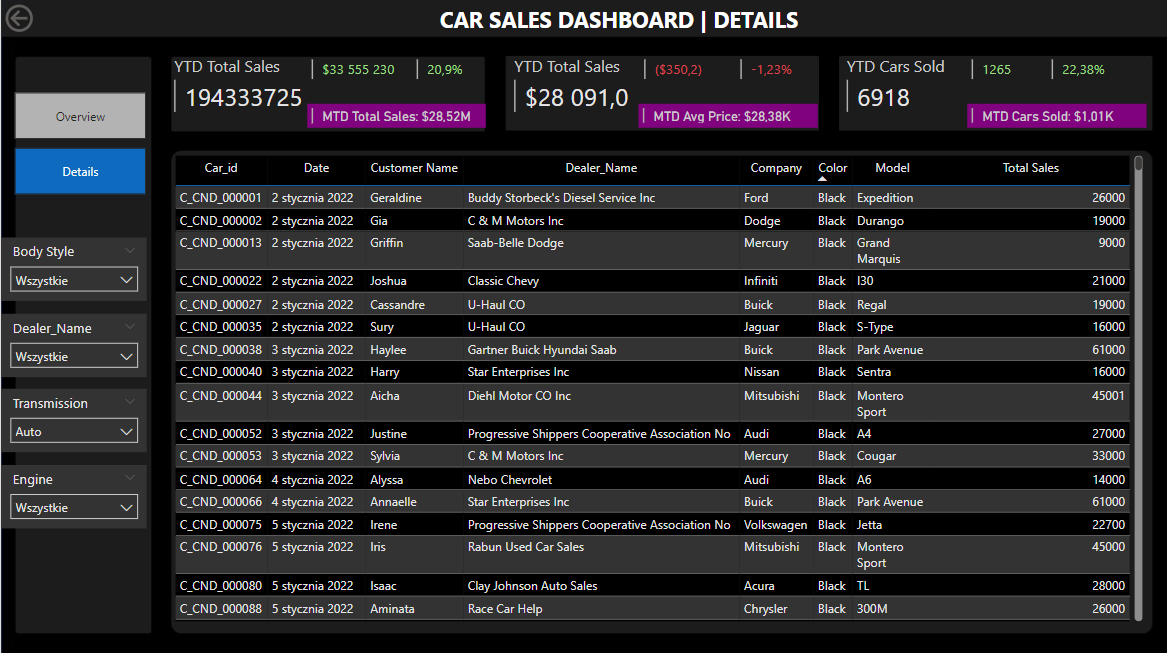

This screenshot's page, from the dashboard's own definition file:
{"tool":"powerbi","page":{"name":"Details","canvas":[1280,720],"ordinal":1},"visuals":[{"type":"multiRowCard","title":"YTD Total Sales","fields":{"Values":["car_data.YTD Total Sales"]},"box":[185.3,60.7,229,79.4],"z":0},{"type":"multiRowCard","fields":{"Values":["car_data.Sales Difference"]},"box":[336.4,60.7,115.3,37.4],"z":1000},{"type":"multiRowCard","fields":{"Values":["car_data.YoY Sales Growth"]},"box":[451.7,60.7,71.6,37.4],"z":2000},{"type":"multiRowCard","fields":{"Values":["car_data.MTD KPI"]},"box":[336.4,113.7,196.3,26.5],"z":3000},{"type":"multiRowCard","title":"YTD Total Sales","fields":{"Values":["car_data.YTD Avg Price"]},"box":[559.2,60.7,141.7,79.4],"z":4000},{"type":"multiRowCard","fields":{"Values":["car_data.Avr Price Diff"]},"box":[700.9,60.7,82.6,37.4],"z":5000},{"type":"multiRowCard","fields":{"Values":["car_data.YoY Avg Price Growth"]},"box":[806.5,61,71.4,36.6],"z":6000},{"type":"multiRowCard","fields":{"Values":["car_data.MTD Avg Price KPI"]},"box":[700.3,113.2,196.8,26.1],"z":7000},{"type":"multiRowCard","title":"YTD Cars Sold","fields":{"Values":["car_data.YTD Cars Sold"]},"box":[923.2,61,137.6,80.1],"z":8000},{"type":"multiRowCard","fields":{"Values":["car_data.Cars Sold Diff"]},"box":[1060.9,61,74.9,36.6],"z":9000},{"type":"multiRowCard","fields":{"Values":["car_data.YoY Car Sold Growth"]},"box":[1148,61,71.4,36.6],"z":10000},{"type":"multiRowCard","fields":{"Values":["car_data.MTD Cars Sold KPI"]},"box":[1060.9,113.2,196.8,26.1],"z":11000},{"type":"actionButton","box":[0,0,100,40],"z":17000},{"type":"textbox","box":[433.8,0,489.5,47],"z":18000},{"type":"slicer","fields":{"Values":["car_data.Body Style"]},"box":[0,261.3,160.3,69.7],"z":19000},{"type":"slicer","fields":{"Values":["car_data.Dealer_Name"]},"box":[0,344.9,160.3,69.7],"z":20000},{"type":"slicer","fields":{"Values":["car_data.Transmission"]},"box":[0,426.8,160.3,69.7],"z":21000},{"type":"slicer","fields":{"Values":["car_data.Engine"]},"box":[0,510.4,160.3,69.7],"z":22000},{"type":"tableEx","fields":{"Values":["car_data.Car_id","car_data.Date","car_data.Customer Name","car_data.Dealer_Name","car_data.Company","car_data.Color","car_data.Model","car_data.Total Sales"]},"box":[184.6,165.5,1073.1,520.9],"z":22001},{"type":"pageNavigator","box":[15.7,101,144.6,113.2],"z":22003}]}

Visuals, with their boxes on the page's 1280x720 design canvas (x1, y1, x2, y2). These are canvas units, not pixel positions in the 1167x653 screenshot, which may show the page scaled, cropped or inside an application window:
"YTD Total Sales" multiRowCard: l=185, t=61, r=414, b=140
multiRowCard - car_data.Sales Difference: l=336, t=61, r=452, b=98
multiRowCard - car_data.YoY Sales Growth: l=452, t=61, r=523, b=98
multiRowCard - car_data.MTD KPI: l=336, t=114, r=533, b=140
"YTD Total Sales" multiRowCard: l=559, t=61, r=701, b=140
multiRowCard - car_data.Avr Price Diff: l=701, t=61, r=784, b=98
multiRowCard - car_data.YoY Avg Price Growth: l=806, t=61, r=878, b=98
multiRowCard - car_data.MTD Avg Price KPI: l=700, t=113, r=897, b=139
"YTD Cars Sold" multiRowCard: l=923, t=61, r=1061, b=141
multiRowCard - car_data.Cars Sold Diff: l=1061, t=61, r=1136, b=98
multiRowCard - car_data.YoY Car Sold Growth: l=1148, t=61, r=1219, b=98
multiRowCard - car_data.MTD Cars Sold KPI: l=1061, t=113, r=1258, b=139
actionButton: l=0, t=0, r=100, b=40
textbox: l=434, t=0, r=923, b=47
slicer - car_data.Body Style: l=0, t=261, r=160, b=331
slicer - car_data.Dealer_Name: l=0, t=345, r=160, b=415
slicer - car_data.Transmission: l=0, t=427, r=160, b=496
slicer - car_data.Engine: l=0, t=510, r=160, b=580
tableEx - car_data.Car_id x car_data.Date: l=185, t=166, r=1258, b=686
pageNavigator: l=16, t=101, r=160, b=214
